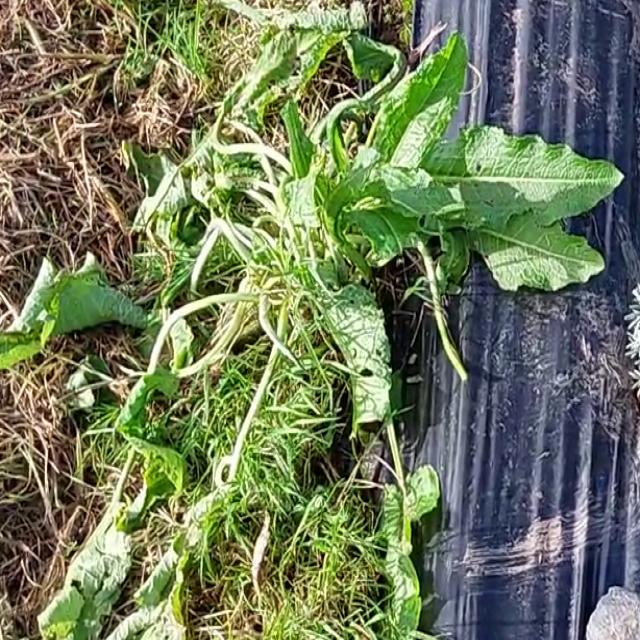organic waste: (19, 21, 620, 640)
